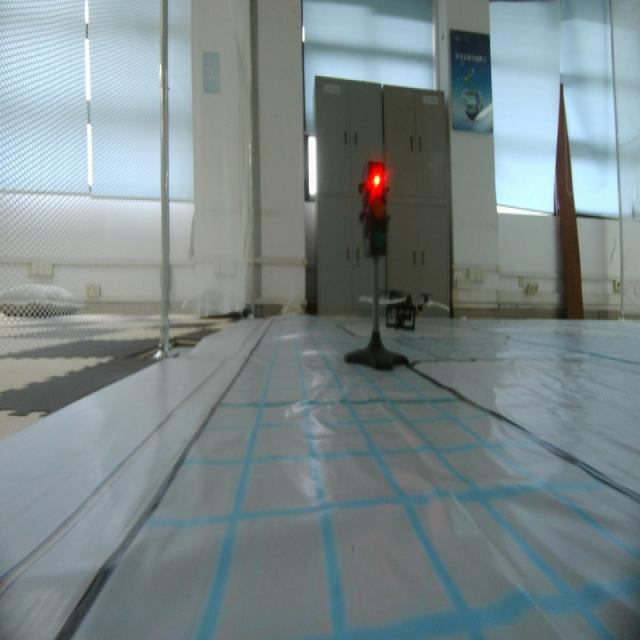red: (359, 158, 393, 264)
